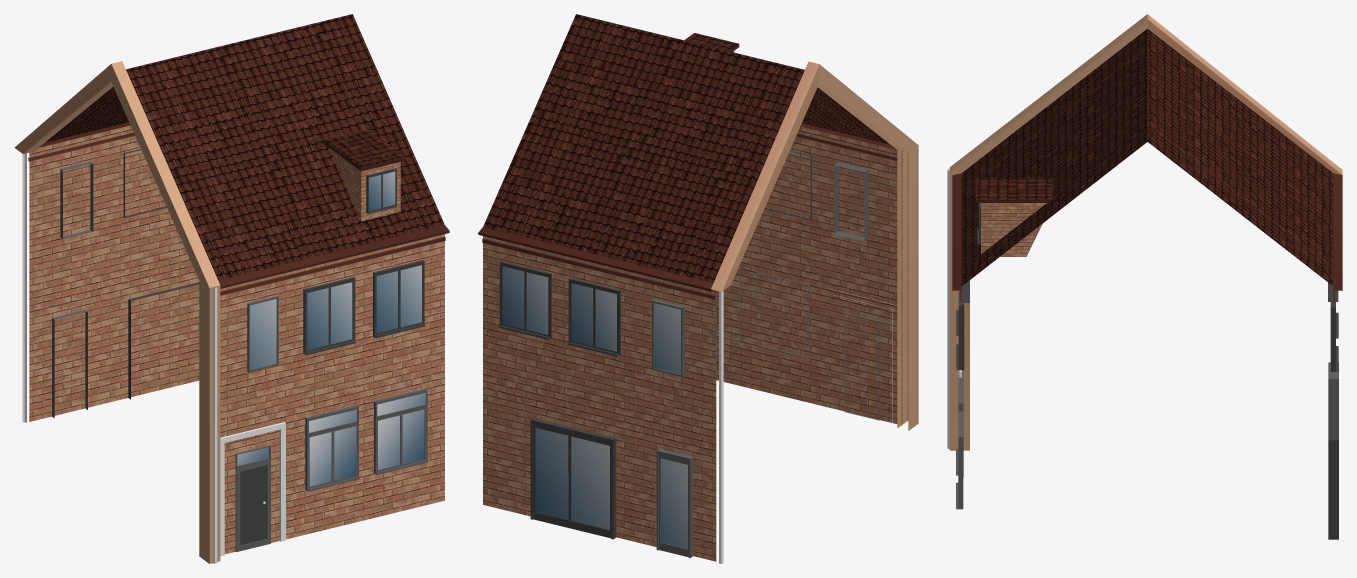
Rendered from It_Tek_8.fbx.
3 views of the same model, side by side, from view 1: azimuth 30°, elevation 25°; view 2: azimuth 150°, elevation 25°; view 3: azimuth 270°, elevation 25° (orthographic).
Parts seen in each view (by area): view 1: It_Tek_8; view 2: It_Tek_8; view 3: It_Tek_8.
Boxes of the visible parts, <box> form: It_Tek_8: <box>14,14,449,563</box>; It_Tek_8: <box>478,14,918,563</box>; It_Tek_8: <box>947,14,1342,539</box>.
Bounding box in the file's own units: 6.15 × 10.42 × 8.66.
